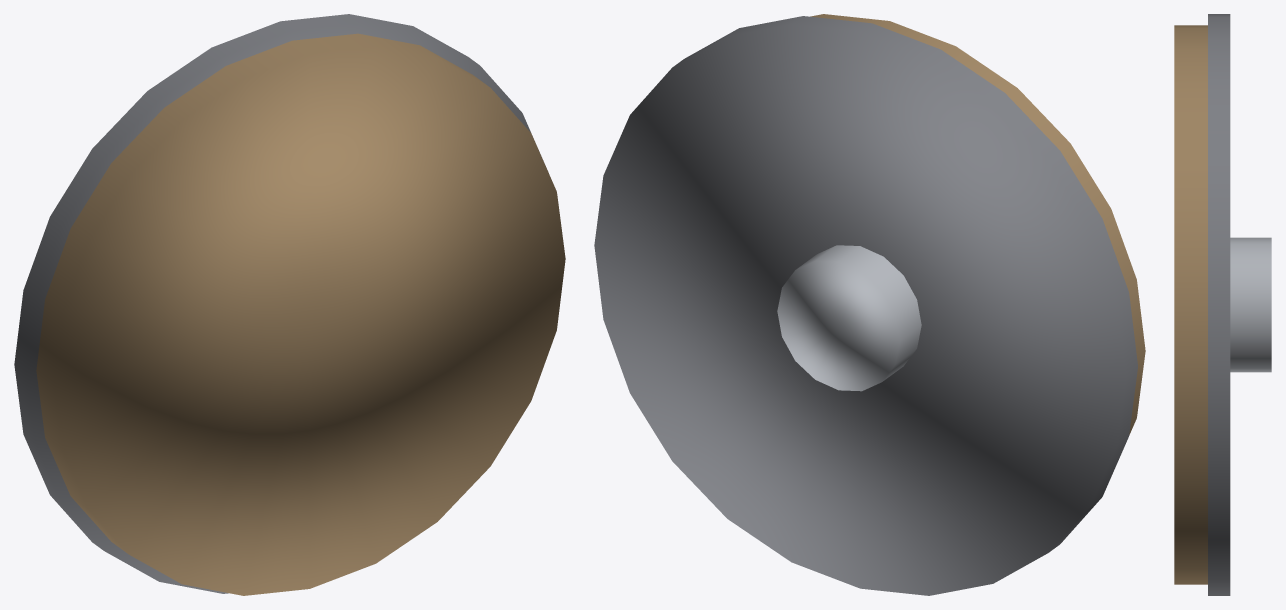
File: equip-shield.glb
3 views of the same model, side by side, from view 1: azimuth 30°, elevation 25°; view 2: azimuth 150°, elevation 25°; view 3: azimuth 270°, elevation 25° (orthographic). The views are drawn at different scales.
Parts seen in each view (by area): view 1: equip_shield; view 2: equip_shield; view 3: equip_shield.
Part boxes in pixels (bbox=[...]): equip_shield: bbox=[14, 14, 565, 595]; equip_shield: bbox=[594, 14, 1145, 595]; equip_shield: bbox=[1174, 14, 1271, 595].
Size of the model in its own units: 1.56 by 1.56 by 0.26.
